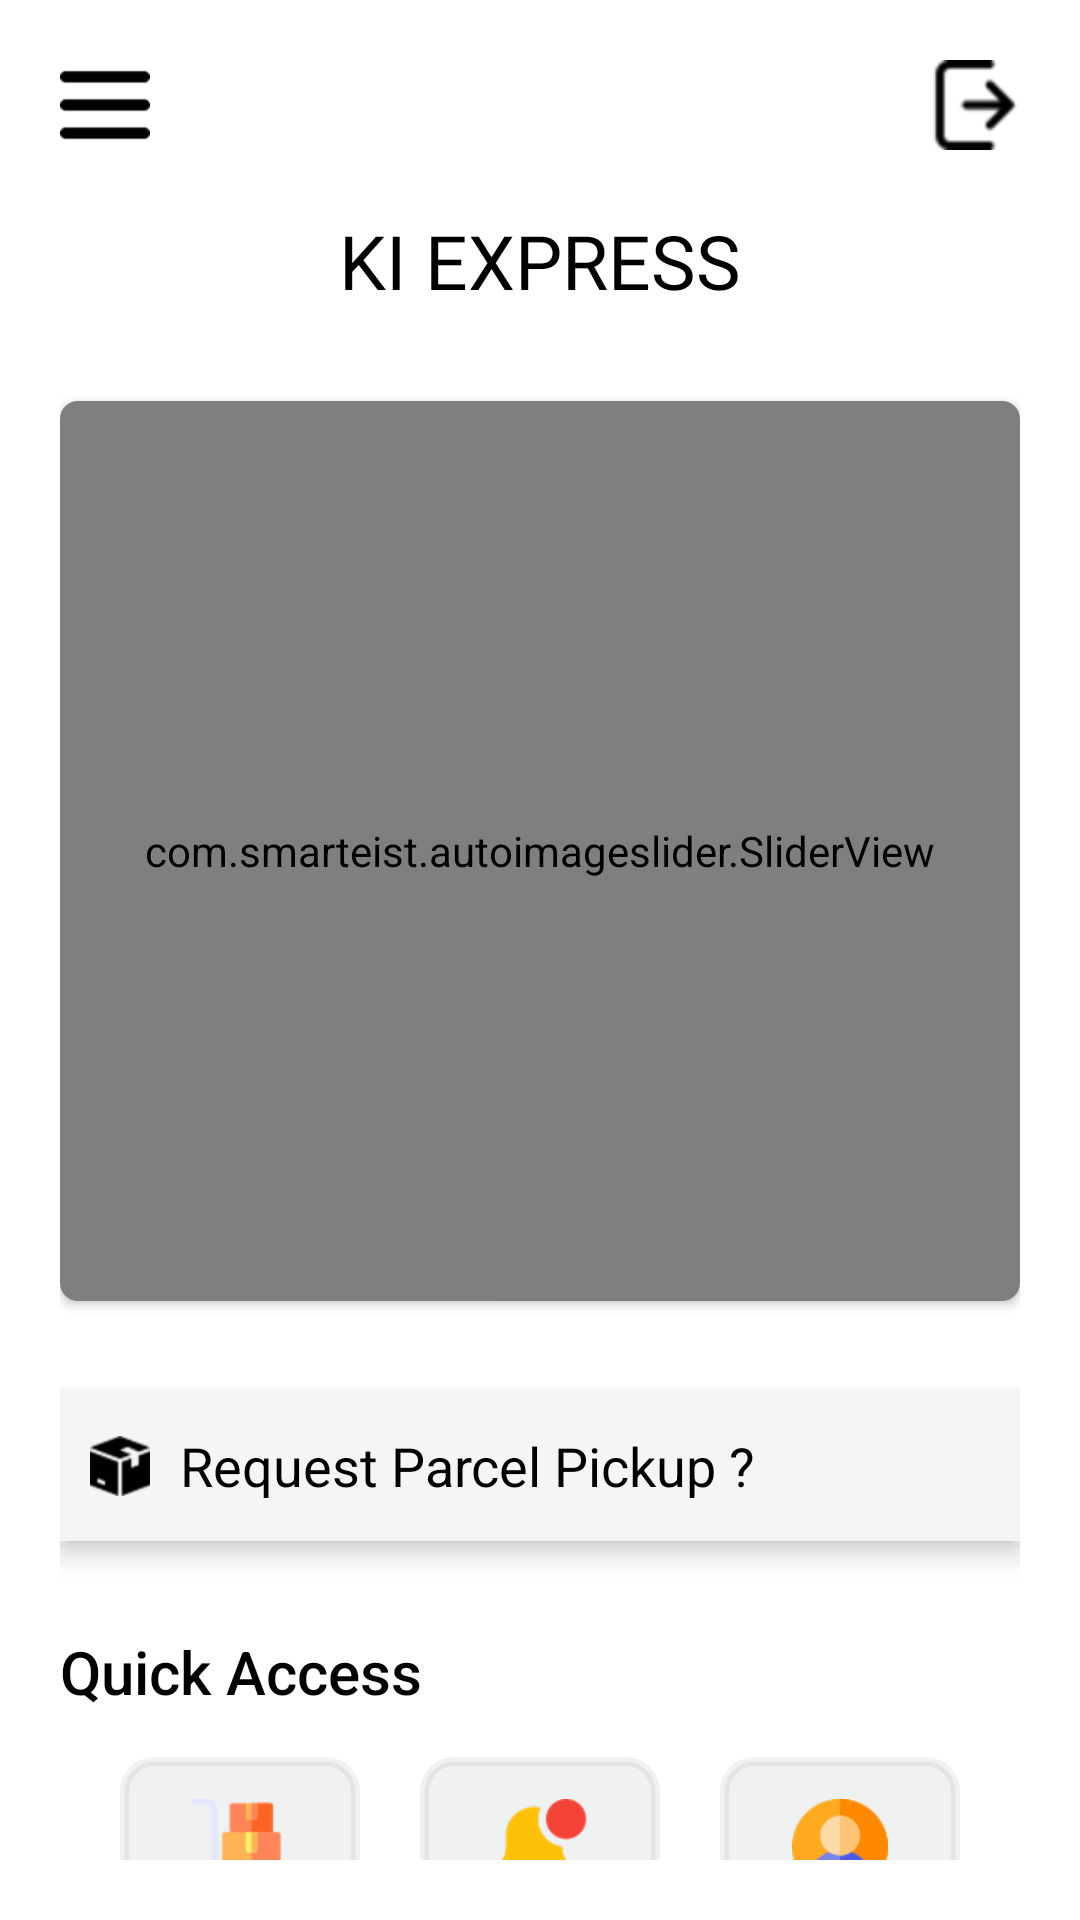

Named icons in this screenshot (1080 x 1920) and their bounding boxes, (x1, y1, x2, y2):
box: (90, 1436, 150, 1496)
menu: (60, 70, 150, 140)
